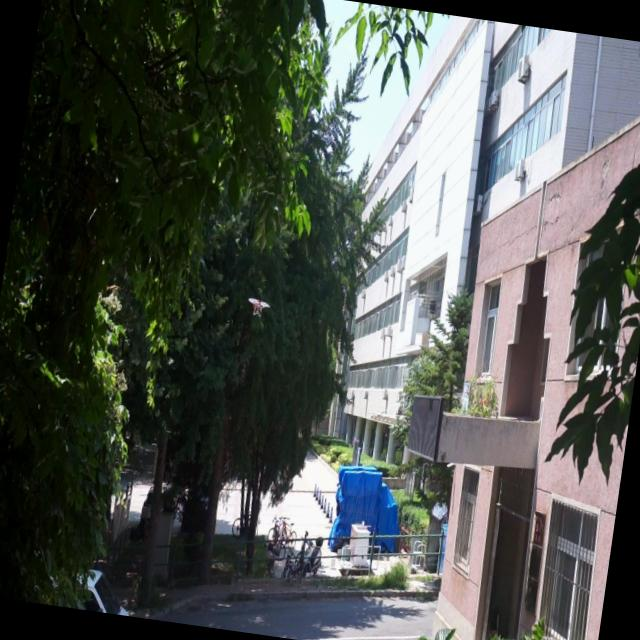drone: (244, 294, 272, 322)
